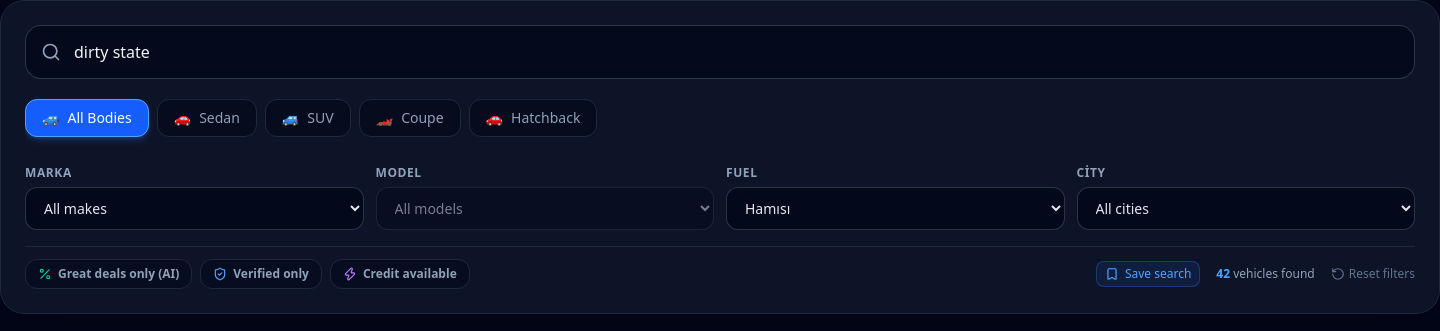
Scenario: FilterBar Component › handles resetting filters
Expected: the field with placeholder "Search make, model, or keywords (e.g. BMW 530, Camry)..." holds "dirty state", [25, 25, 1415, 79]
Click the button "Reset filters".
click(1373, 274)  # box [1331, 266, 1415, 282]
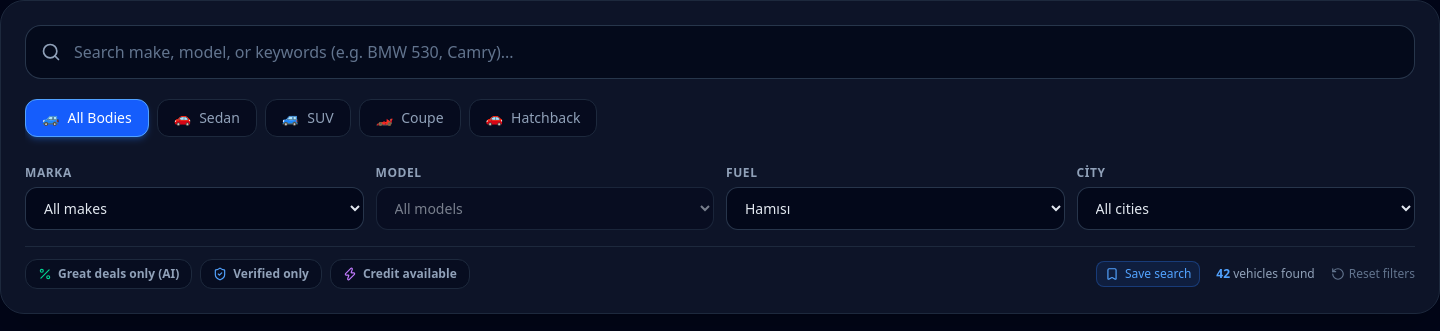
Expected: the field with placeholder "Search make, model, or keywords (e.g. BMW 530, Camry)..." is empty, [25, 25, 1415, 79]
